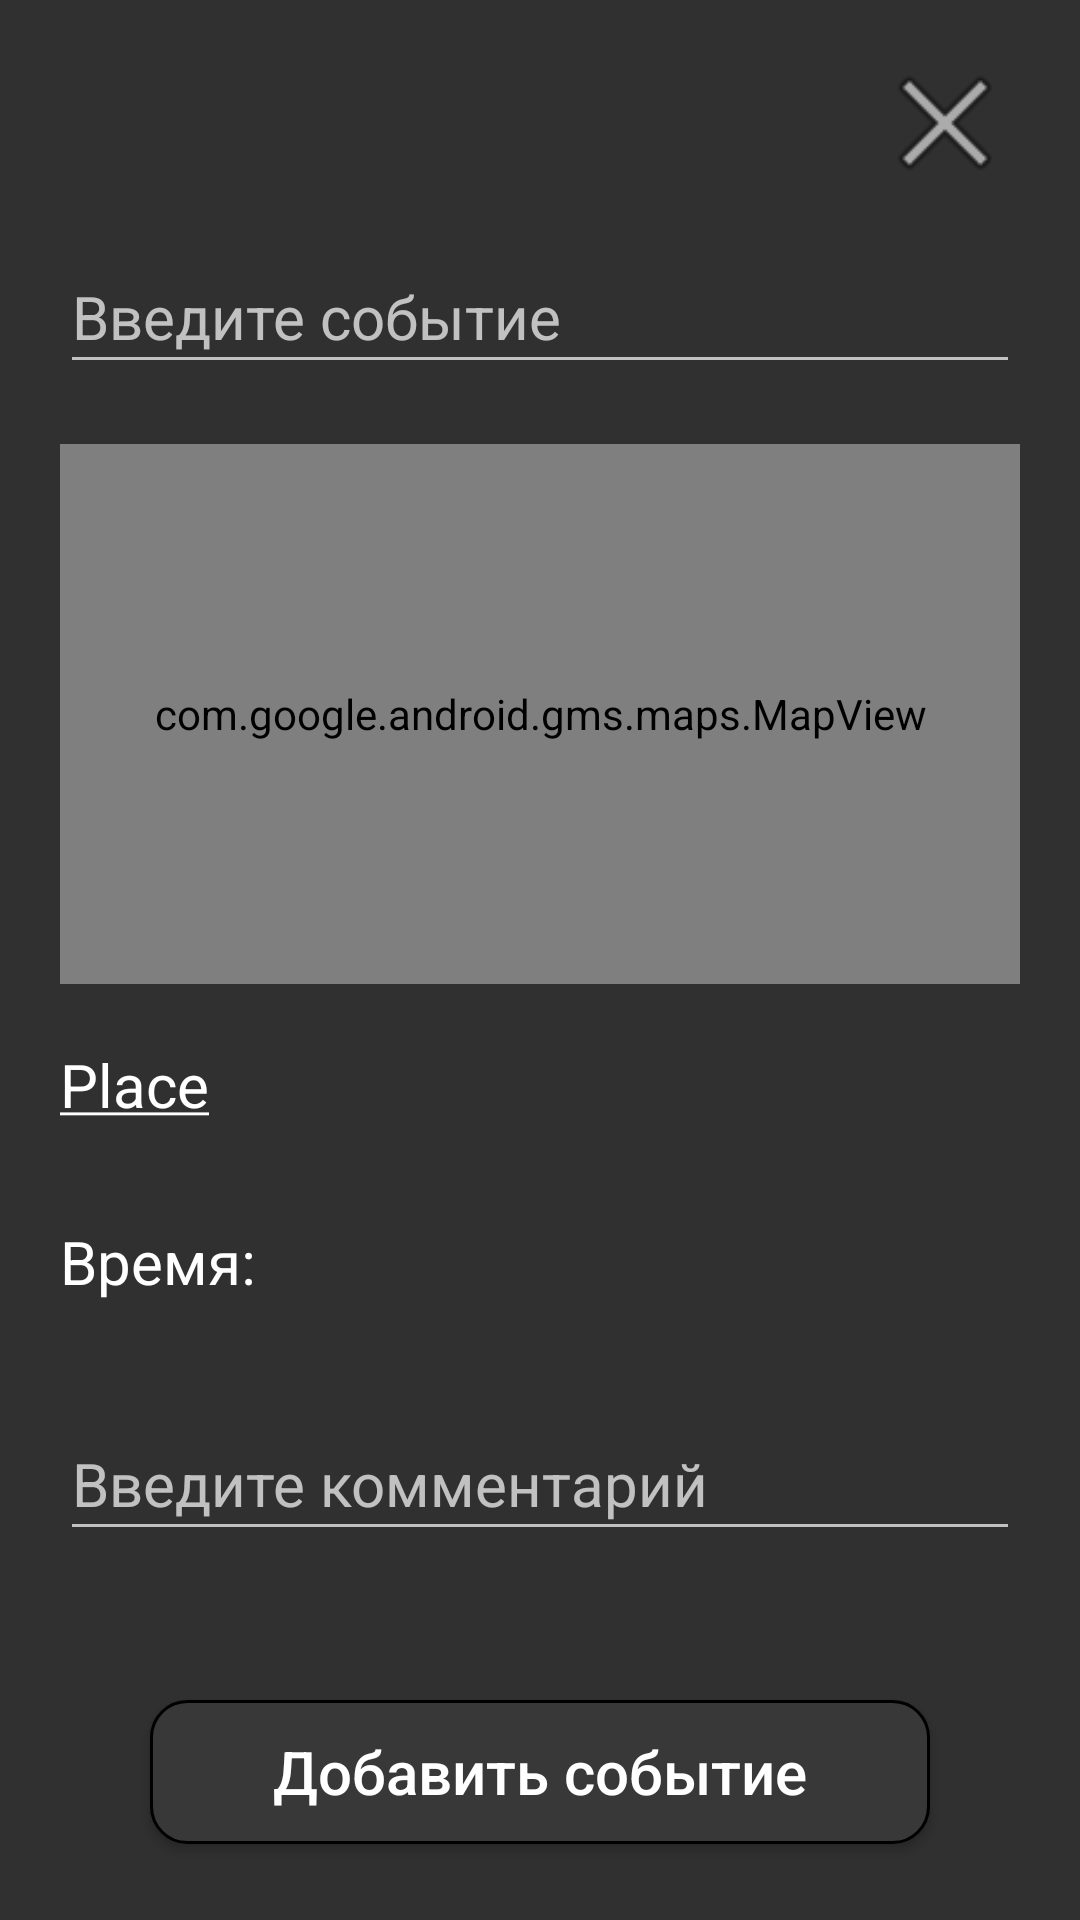

Named icons in this screenshot (1080px×1920px) and their bounding boxes, (x1, y1, x2, y2):
close clear cancel: (903, 81, 987, 165)
